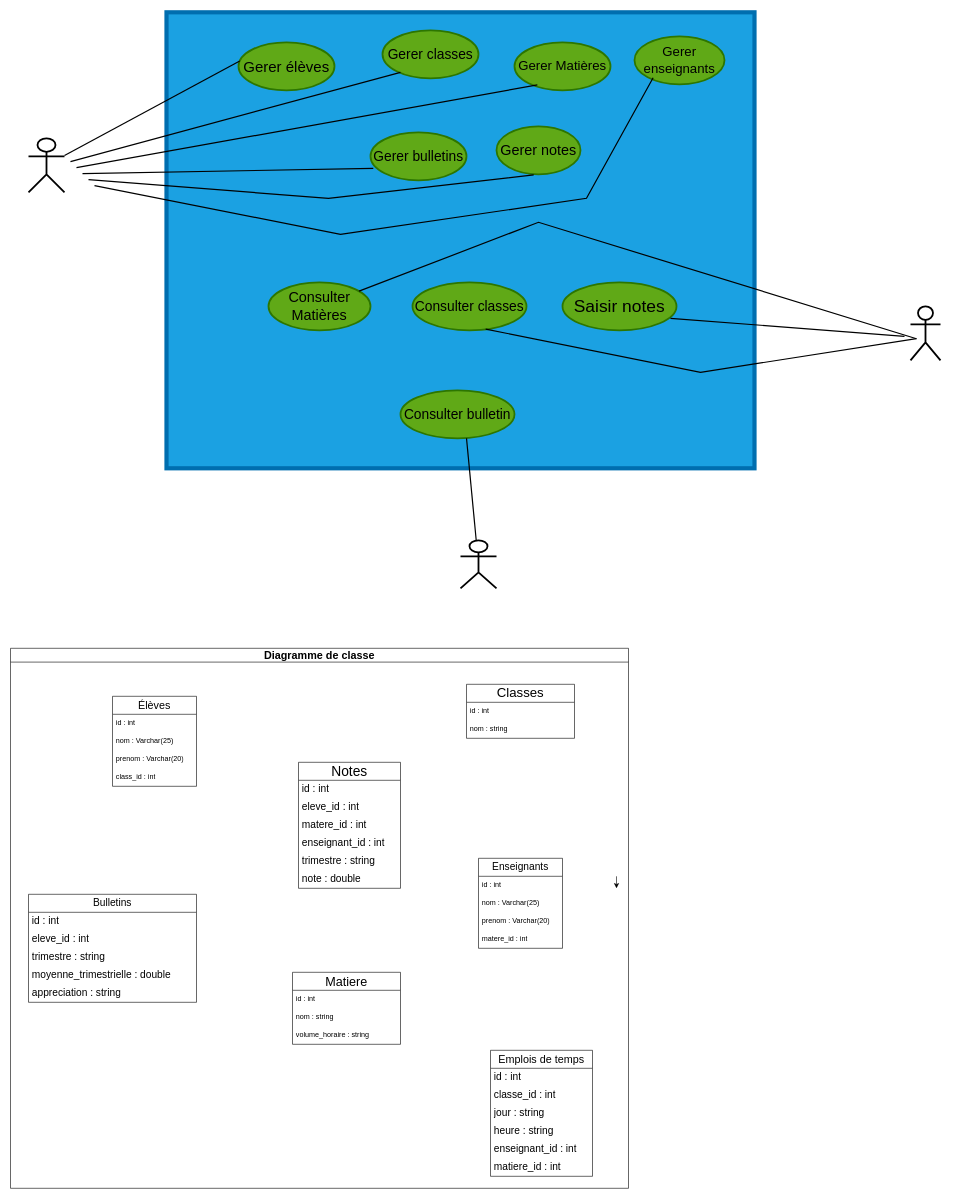
Image size: 963x1199. Some labels were removed from this diagram. Each missing label, with the centre of its shape:
"ADMIN" goes at point 46,165.
"ELÈVES" goes at point 478,564.
"ENSEIGNANT" goes at point 925,333.
